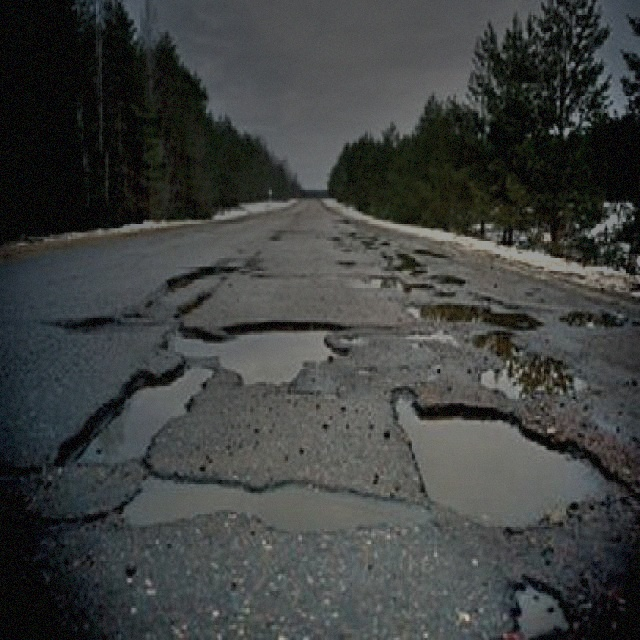pothole: (387, 380, 638, 535), (116, 465, 426, 540), (50, 361, 217, 467), (164, 322, 350, 391), (471, 326, 584, 399), (146, 258, 238, 322), (402, 294, 542, 326), (510, 569, 572, 638), (56, 309, 120, 335), (558, 305, 629, 326)
